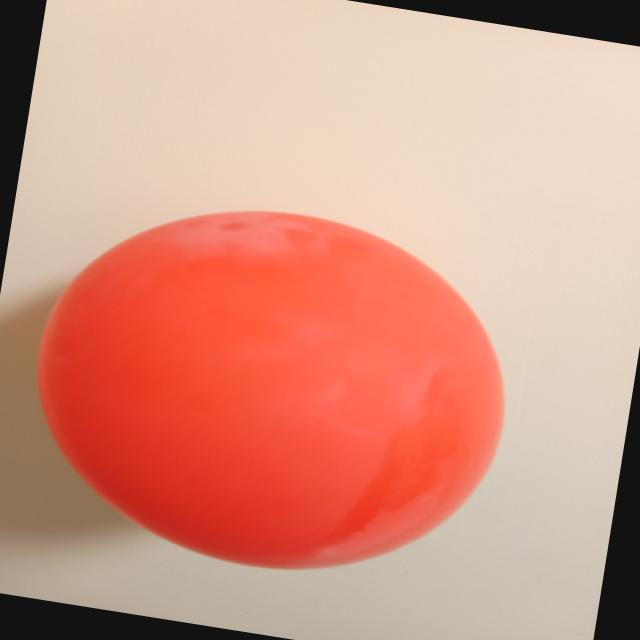balloon: (37, 212, 504, 569)
